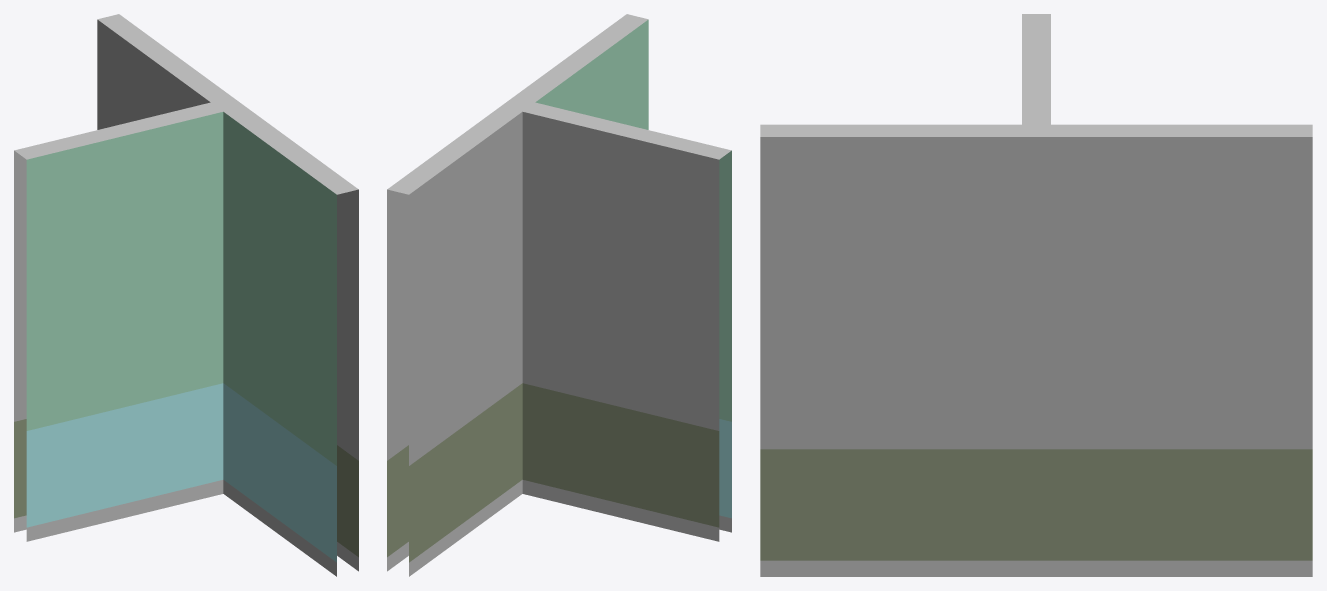
File: SM_Wall_Corner_B_200.fbx
3 views of the same model, side by side, from view 1: azimuth 30°, elevation 25°; view 2: azimuth 150°, elevation 25°; view 3: azimuth 270°, elevation 25° (orthographic). The views are drawn at different scales.
Visible parts, largest first — view 1: SM_Wall_Corner_B_200; view 2: SM_Wall_Corner_B_200; view 3: SM_Wall_Corner_B_200.
Boxes of the visible parts, x1=… form: SM_Wall_Corner_B_200: x1=14, y1=14, x2=358, y2=576; SM_Wall_Corner_B_200: x1=387, y1=14, x2=731, y2=576; SM_Wall_Corner_B_200: x1=760, y1=14, x2=1312, y2=576.
Size of the model in its own units: 200 by 334 by 380.
